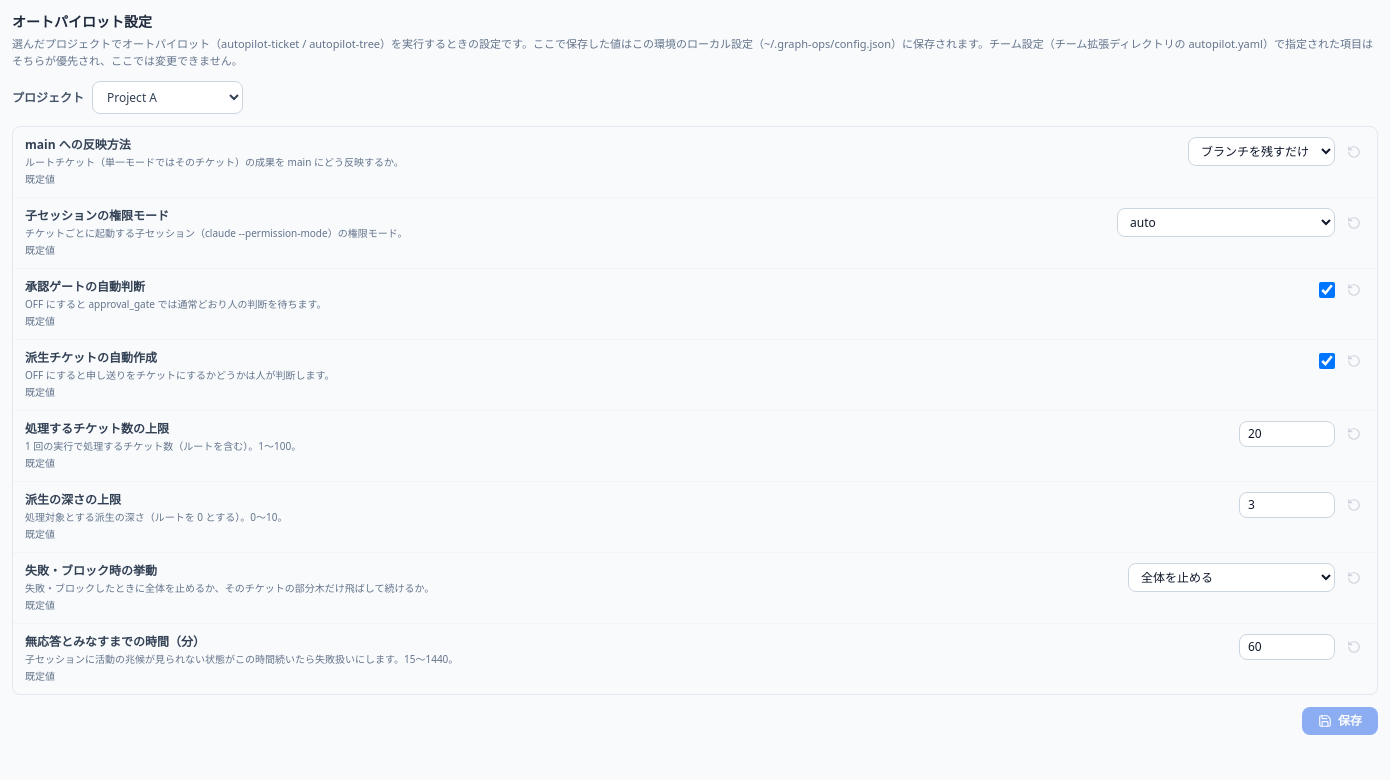
Test: AutopilotSettingsEditor › edits a value and saves only that key, then shows the saved value
The image size is (1390, 780).
Check: the text with test id "autopilot-source-maxTickets" reads "既定値", box [25, 456, 55, 470]
Replace the text in the number field labelled "処理するチケット数の上限" with "30": [1287, 434] box [1239, 421, 1335, 447]
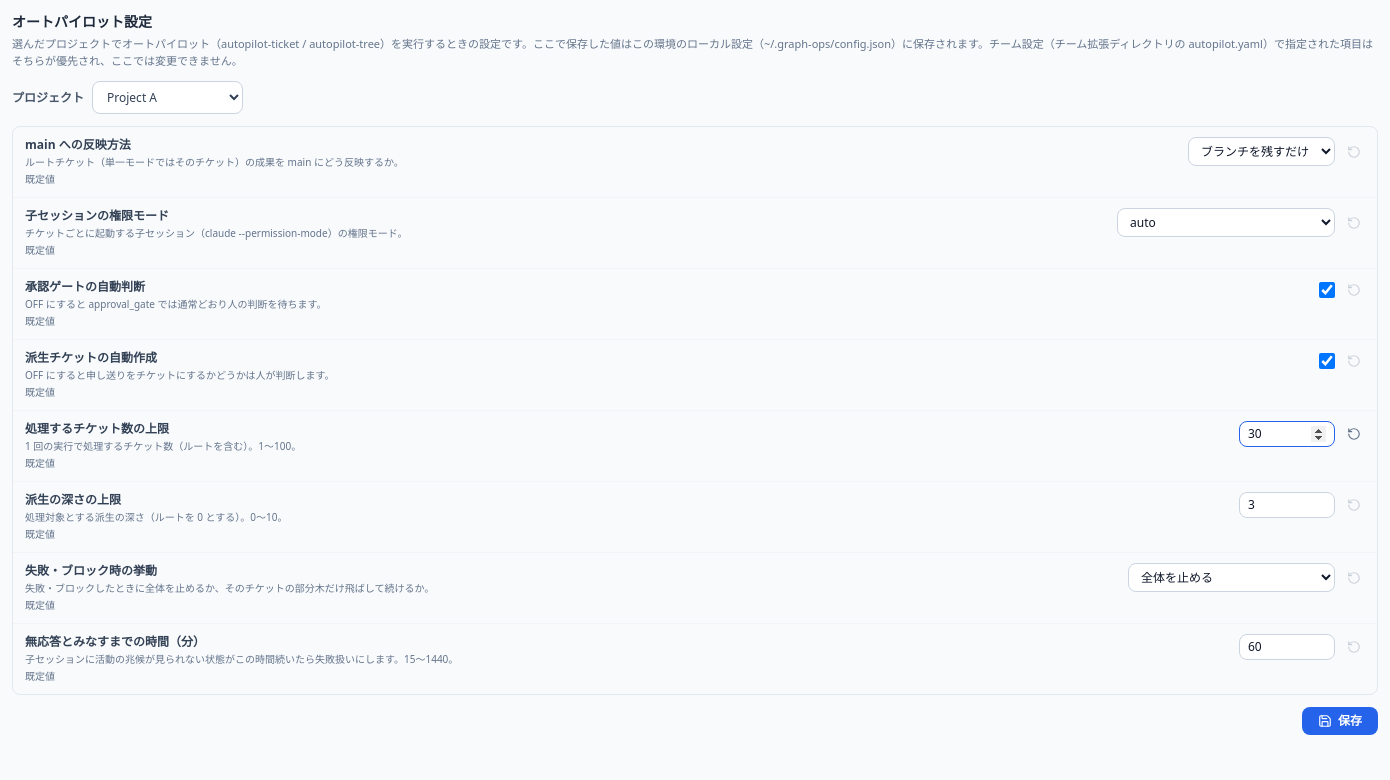
Click the button "保存": [1340, 721] box [1302, 707, 1378, 735]
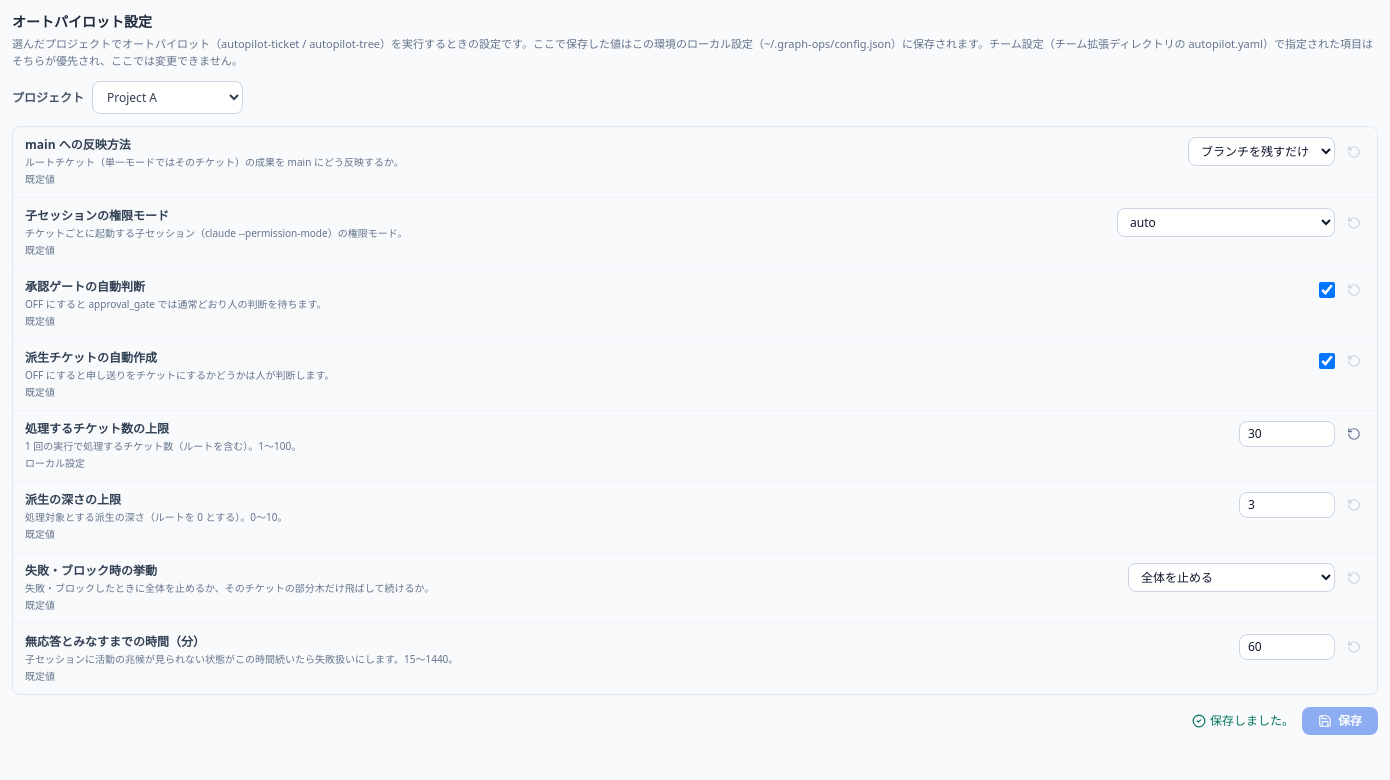
Check: the text with test id "autopilot-source-maxTickets" reads "ローカル設定", box [25, 456, 85, 470]
